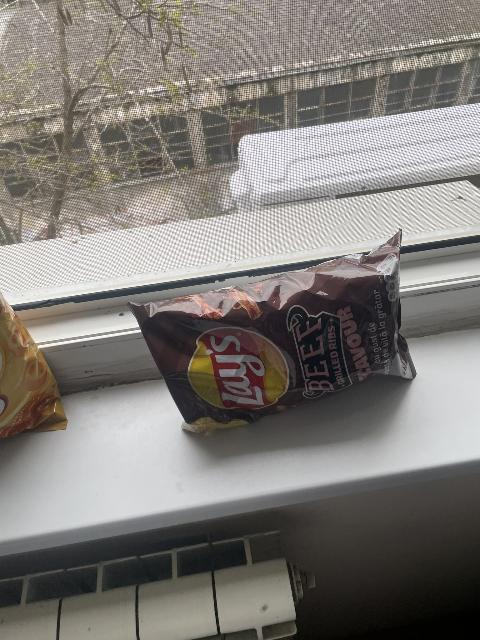Chio Hula Hoops Cheese 70g: (0, 285, 67, 439)
Lays Beef Grilled Ribs 125g: (127, 230, 415, 432)
